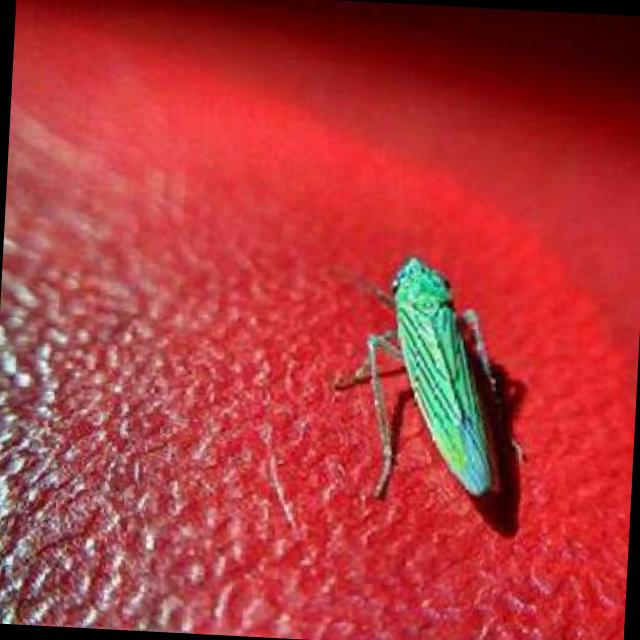green-leafhopper: (334, 246, 521, 499)
